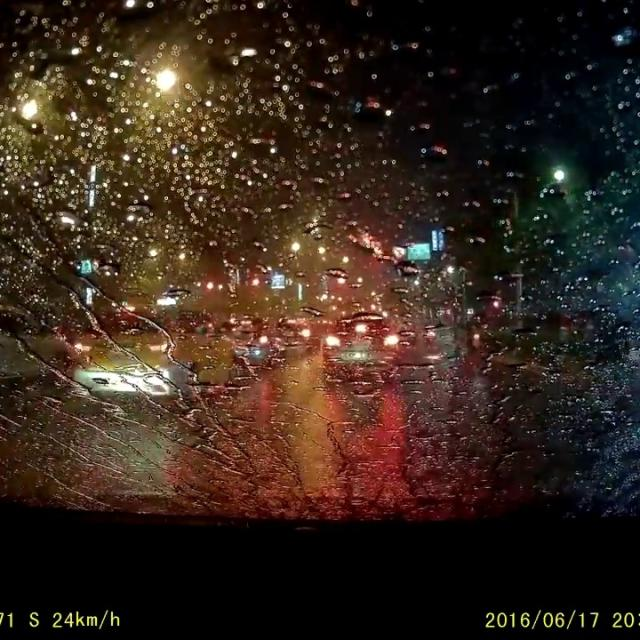Car: (67, 303, 243, 404), (0, 300, 73, 387), (319, 310, 396, 382), (220, 315, 287, 369), (272, 315, 322, 355)
